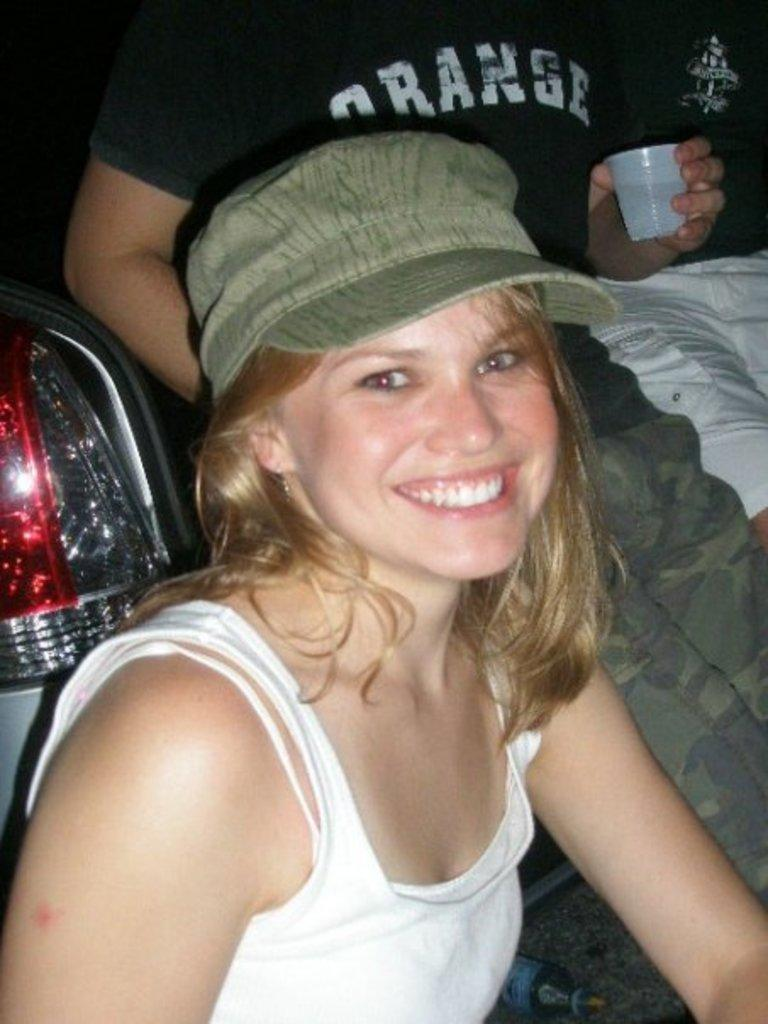Hat: (184, 128, 626, 404)
